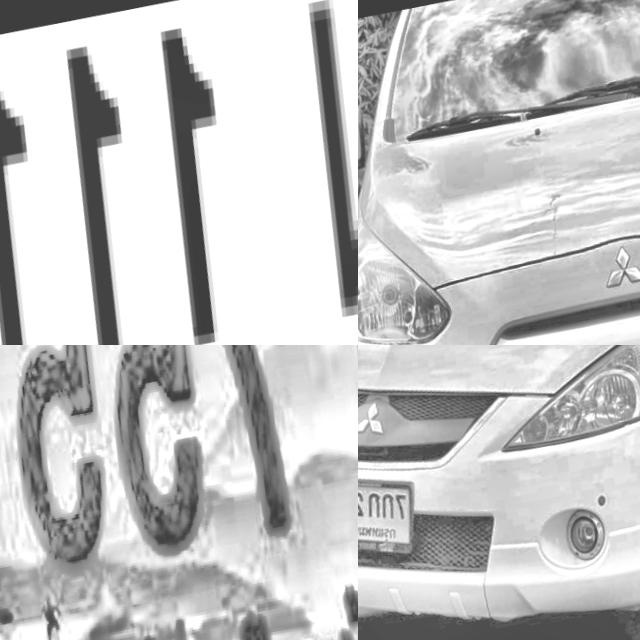license-plate: (0, 0, 358, 345), (0, 345, 358, 640), (358, 454, 435, 567)
